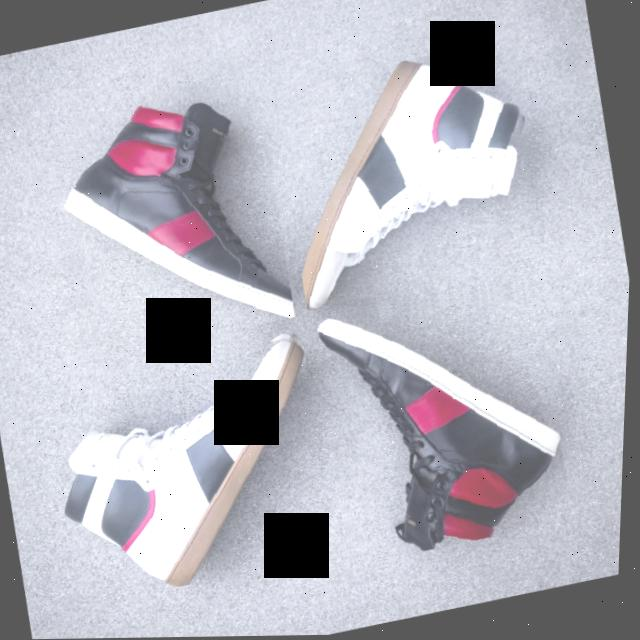shoe: (41, 328, 348, 608), (306, 274, 585, 568), (267, 39, 559, 314), (35, 79, 305, 362)
